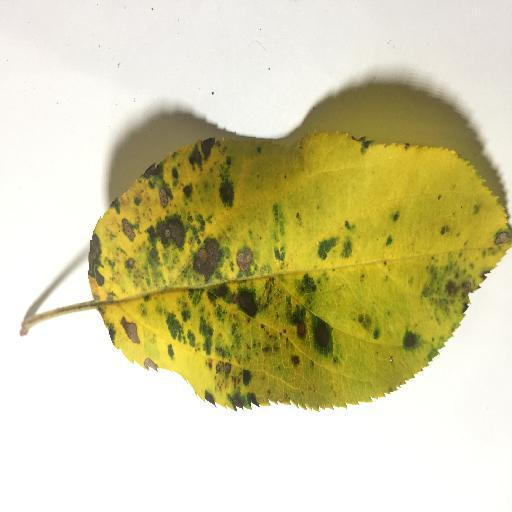Brown_Spot: (206, 358, 250, 392), (439, 277, 478, 308), (190, 246, 224, 273), (152, 218, 183, 245), (119, 220, 140, 244), (233, 255, 254, 278), (124, 318, 147, 339), (489, 231, 512, 247), (154, 190, 169, 212), (291, 322, 308, 337), (143, 356, 158, 370)
